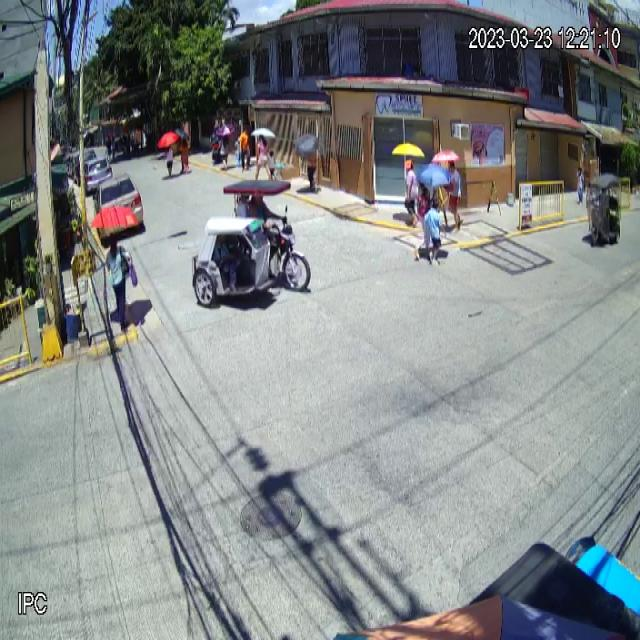Tricycle: (192, 180, 312, 308)
